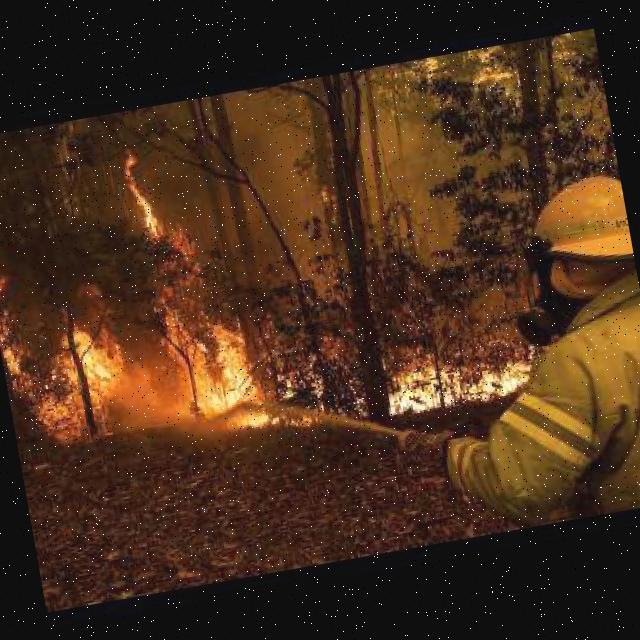Fire: (118, 125, 314, 446), (0, 259, 130, 452), (379, 327, 545, 415)
